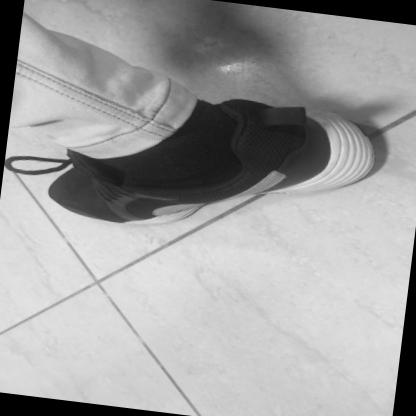ankle: (178, 176, 184, 181)
heel: (324, 145, 329, 148)
left_foot: (46, 77, 380, 253)
pinky: (77, 207, 82, 210)
toe: (57, 180, 61, 182)
